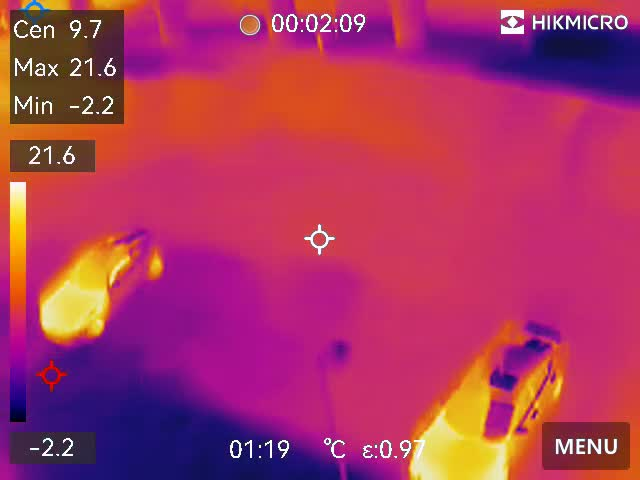smallCar: (402, 300, 578, 480)
vehicle: (35, 213, 162, 353)
